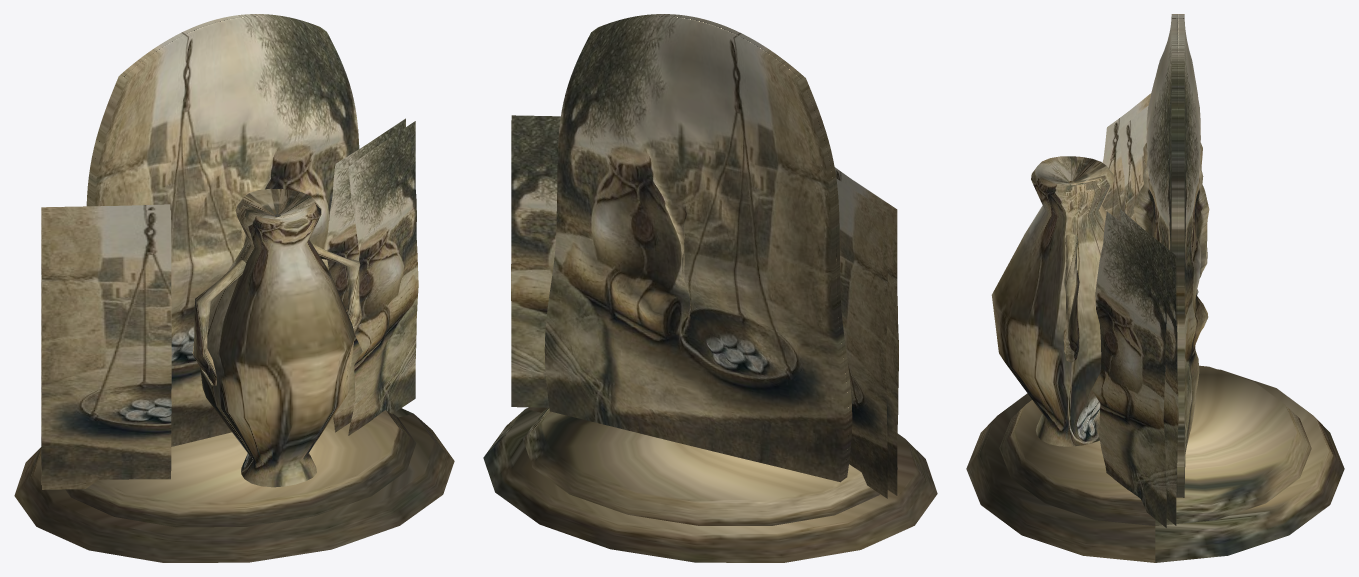
Rendered from a-future-and-a-hope-30.glb.
3 views of the same model, side by side, from view 1: azimuth 30°, elevation 25°; view 2: azimuth 150°, elevation 25°; view 3: azimuth 270°, elevation 25° (orthographic). The views are drawn at different scales.
Visible parts, largest first — view 1: PaintingSculptureMonument; view 2: PaintingSculptureMonument; view 3: PaintingSculptureMonument.
Part boxes in pixels (x1=…): PaintingSculptureMonument: x1=14, y1=14, x2=454, y2=562; PaintingSculptureMonument: x1=483, y1=14, x2=937, y2=562; PaintingSculptureMonument: x1=966, y1=14, x2=1344, y2=562.
Bounding box in the file's own units: 2.76 × 2.99 × 2.35.
1 material, 1 textured.
